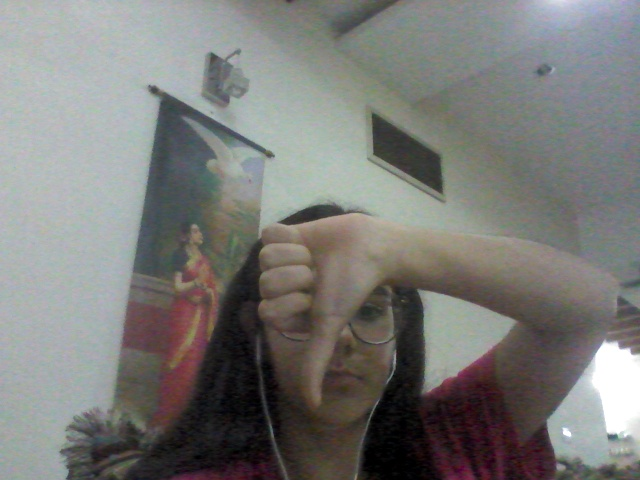ThumbsDown: (259, 212, 386, 411)
